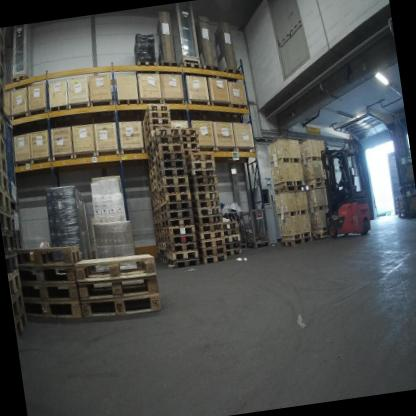forklift: (313, 136, 378, 241)
pallet: (79, 287, 164, 326), (77, 266, 160, 302), (71, 249, 157, 283), (24, 290, 88, 325), (15, 237, 80, 267), (18, 259, 78, 289), (24, 281, 81, 307), (150, 150, 186, 172), (152, 157, 185, 181), (150, 134, 186, 155), (139, 101, 170, 124), (139, 109, 171, 130), (149, 125, 184, 144), (142, 122, 173, 143), (15, 310, 33, 345), (8, 268, 25, 305), (150, 142, 183, 161), (153, 167, 186, 186), (12, 288, 29, 323), (272, 182, 306, 199), (194, 223, 224, 242), (159, 204, 192, 221), (156, 182, 187, 200), (162, 230, 196, 246), (165, 237, 197, 253), (221, 63, 244, 85), (144, 115, 169, 135), (161, 224, 194, 239), (0, 113, 10, 161), (0, 183, 14, 217), (0, 166, 14, 200), (183, 151, 214, 166), (7, 73, 37, 88), (177, 56, 203, 73), (0, 138, 11, 178), (187, 165, 216, 180), (196, 241, 225, 256), (155, 176, 186, 190), (159, 192, 190, 206), (159, 200, 190, 214), (167, 255, 198, 269), (199, 62, 226, 78), (186, 157, 216, 171), (188, 173, 218, 187), (196, 235, 226, 249), (189, 182, 218, 196), (2, 230, 17, 257), (281, 234, 312, 247), (161, 216, 194, 228), (192, 204, 222, 217), (193, 213, 223, 226), (5, 255, 20, 281), (166, 248, 198, 260), (0, 208, 14, 235), (193, 221, 224, 233), (304, 178, 330, 192), (191, 197, 220, 209), (157, 57, 180, 72), (190, 190, 219, 201), (198, 253, 226, 264), (136, 58, 157, 71), (180, 134, 200, 147), (181, 140, 202, 151), (181, 147, 201, 158), (148, 184, 162, 199), (311, 229, 330, 239), (220, 220, 238, 230), (221, 227, 240, 236), (145, 137, 155, 154), (224, 233, 241, 243), (225, 247, 242, 257), (151, 192, 163, 206), (151, 199, 163, 212), (149, 178, 160, 190), (225, 241, 241, 249), (146, 147, 156, 159), (152, 206, 164, 216), (394, 210, 407, 218), (153, 211, 163, 221), (148, 168, 157, 178), (149, 173, 158, 183), (159, 255, 168, 265), (147, 155, 155, 165), (394, 199, 405, 206), (154, 221, 163, 229), (393, 194, 405, 200), (149, 162, 156, 171), (158, 241, 165, 250), (156, 228, 164, 235), (157, 234, 164, 242), (159, 249, 167, 256), (395, 205, 405, 209)
stillage: (0, 105, 26, 208), (4, 207, 32, 274), (239, 206, 272, 257), (395, 150, 414, 186), (399, 183, 416, 215)
